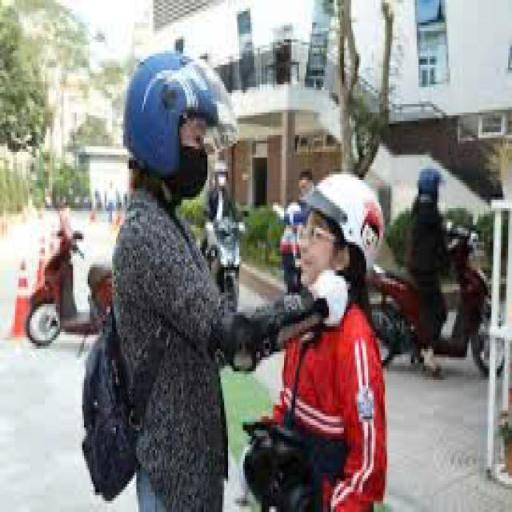with helmet: (120, 48, 240, 178), (301, 166, 386, 268), (415, 164, 446, 200), (214, 160, 232, 180)
